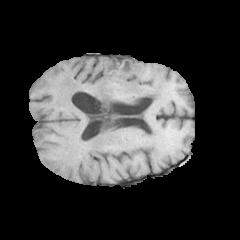glioma: (56, 60, 164, 118)
